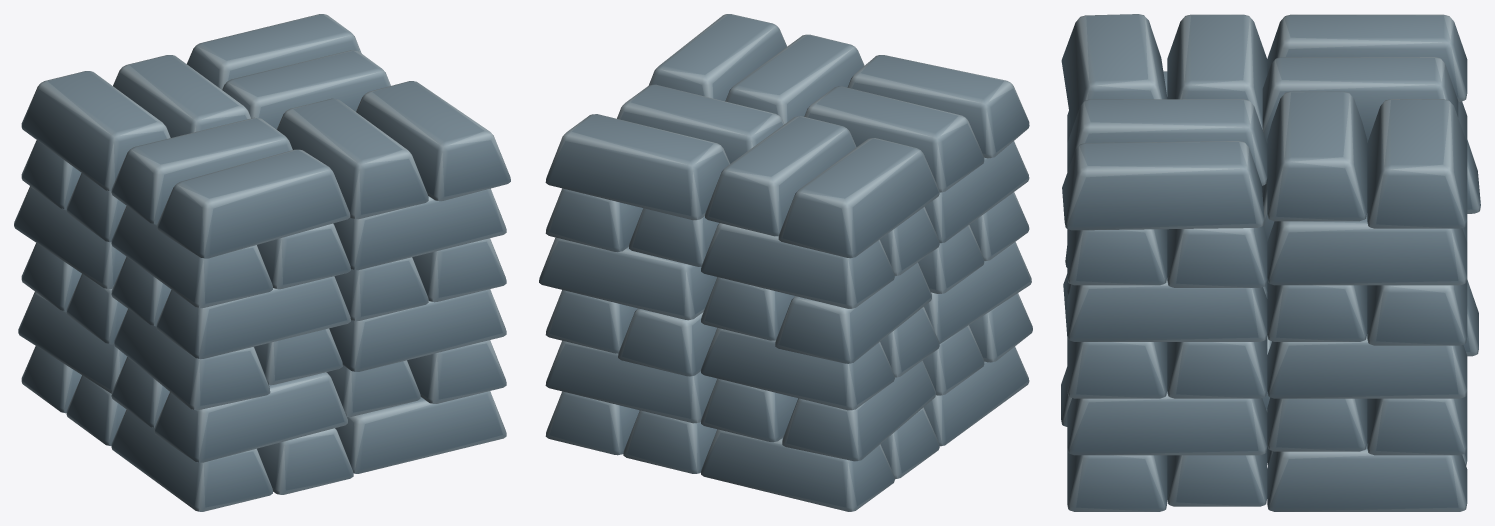
The model's file is Iron_Bars_Stack_Large.glb.
The picture shows the model from 3 angles, left to right: view 1: azimuth 30°, elevation 25°; view 2: azimuth 150°, elevation 25°; view 3: azimuth 270°, elevation 25°; orthographic projection. The views are drawn at different scales.
Visible parts, largest first — view 1: Iron_Bars_Stack_Large; view 2: Iron_Bars_Stack_Large; view 3: Iron_Bars_Stack_Large.
Part boxes in pixels (bbox=[...]): Iron_Bars_Stack_Large: bbox=[14, 14, 510, 511]; Iron_Bars_Stack_Large: bbox=[539, 14, 1032, 511]; Iron_Bars_Stack_Large: bbox=[1061, 14, 1480, 511].
Size of the model in its own units: 1.66 by 1.5 by 1.68.
Materials: 1 (1 with a texture image).
